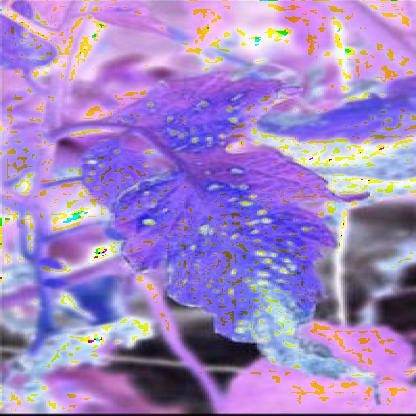Tomato Septoria leaf spot: (88, 80, 383, 382)
